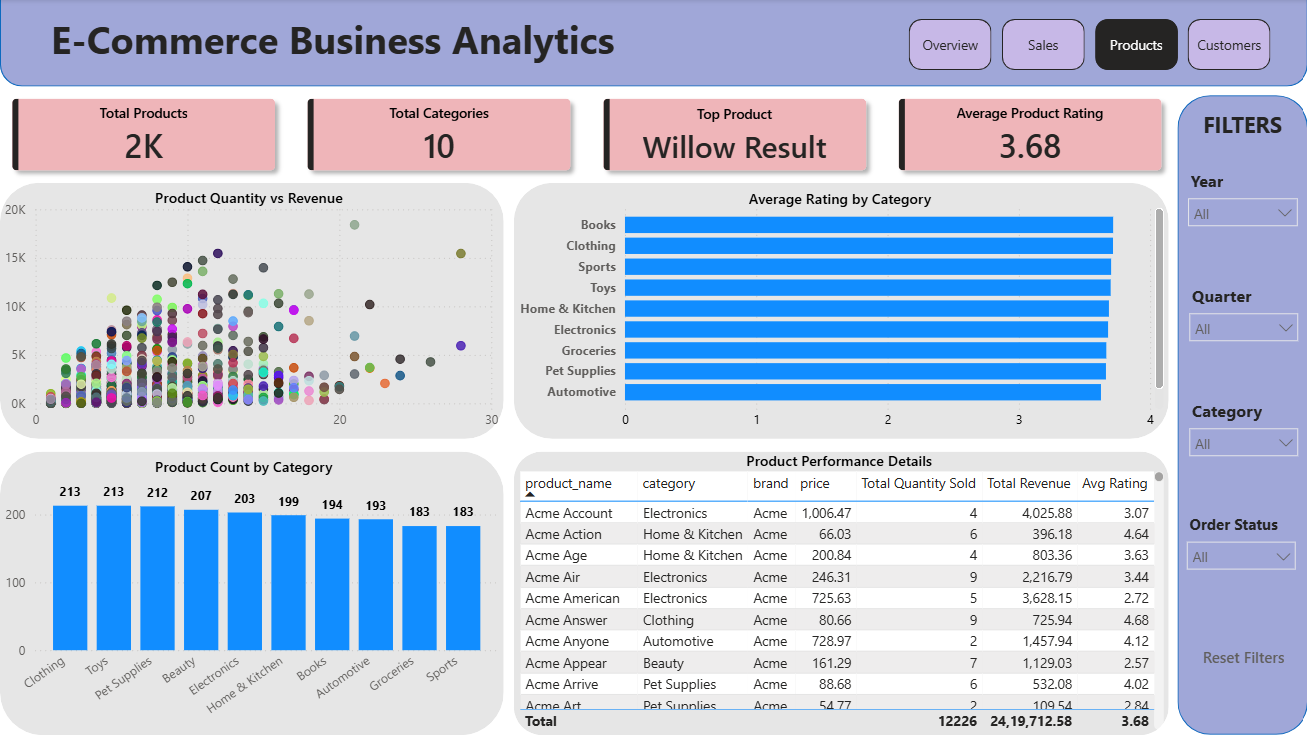

This screenshot's page, from the dashboard's own definition file:
{"tool":"powerbi","page":{"name":"Products","canvas":[1280,720],"ordinal":2},"visuals":[{"type":"cardVisual","fields":{"Data":["Measures_Table.Total Products","Measures_Table.Total Categories","Measures_Table.Top Product","Measures_Table.Average Product Rating"]},"box":[0,85.6,1151.9,94.2],"z":0},{"type":"shape","box":[0,0,1280.3,85.6],"z":1000},{"type":"textbox","box":[0,8.6,640.8,72.1],"z":3000},{"type":"pageNavigator","box":[889,19.6,357.1,50.1],"z":4000},{"type":"shape","box":[1151.4,94.3,128.6,625.7],"z":5000},{"type":"slicer","fields":{"Values":["Date.Year"]},"box":[1152.5,161.2,127.5,83.8],"z":6000},{"type":"slicer","fields":{"Values":["Date.Quarter"]},"box":[1152.9,274.3,127.1,82.9],"z":7000},{"type":"slicer","fields":{"Values":["products.category"]},"box":[1152.9,386.5,127.1,82.9],"z":8000},{"type":"slicer","fields":{"Values":["orders.order_status"]},"box":[1151.2,498.8,127.1,82.9],"z":9000},{"type":"textbox","box":[1152.5,102.5,127.5,45],"z":10000},{"type":"actionButton","title":"Reset Filters","box":[1166.2,623.8,100,40],"z":11000},{"type":"shape","box":[0,179.8,492.8,250.7],"z":12000},{"type":"scatterChart","fields":{"Series":["products.product_name"],"Y":["Measures_Table.Total Revenue"],"X":["Measures_Table.Total Quantity Sold"]},"box":[0,192,492.8,238.5],"z":13000},{"type":"shape","box":[502.6,179.8,640.8,250.7],"z":14000},{"type":"clusteredBarChart","fields":{"Category":["products.category"],"Y":["Measures_Table.Average Product Rating"]},"box":[502.6,192,640.8,238.5],"z":15000},{"type":"shape","box":[0,442.7,492.8,277.6],"z":16000},{"type":"clusteredColumnChart","fields":{"Category":["products.category"],"Y":["Count(products.product_id)"]},"box":[0,457.3,492.8,262.9],"z":17000},{"type":"shape","box":[502.6,442.7,640.8,277.6],"z":18000},{"type":"tableEx","fields":{"Values":["products.product_name","products.category","products.brand","products.price","Measures_Table.Total Quantity Sold","Measures_Table.Total Revenue","Measures_Table.Average Product Rating"]},"box":[502.6,457.3,640.8,262.9],"z":19500},{"type":"textbox","box":[146.7,179.8,201.8,33],"z":19501},{"type":"textbox","box":[146.7,442.7,199.3,33],"z":19502},{"type":"textbox","box":[725.1,436.6,194.4,33],"z":19503},{"type":"textbox","box":[727.6,181,190.8,33],"z":19504}]}

Visuals, with their boxes in screenshot pixels (x1, y1, x2, y2), scaled from the page's 1280x720 canvas onto the 1307x735 screenshot:
cardVisual - Measures_Table.Total Products x Measures_Table.Total Categories: 0,87,1176,184
shape: 0,0,1306,87
textbox: 0,9,654,82
pageNavigator: 908,20,1272,71
shape: 1176,96,1306,734
slicer - Date.Year: 1177,165,1306,250
slicer - Date.Quarter: 1177,280,1306,365
slicer - products.category: 1177,395,1306,479
slicer - orders.order_status: 1175,509,1305,594
textbox: 1177,105,1306,151
"Reset Filters" actionButton: 1191,637,1293,678
shape: 0,184,503,439
scatterChart - products.product_name x Measures_Table.Total Revenue: 0,196,503,439
shape: 513,184,1168,439
clusteredBarChart - products.category x Measures_Table.Average Product Rating: 513,196,1168,439
shape: 0,452,503,734
clusteredColumnChart - products.category x Count(products.product_id): 0,467,503,734
shape: 513,452,1168,734
tableEx - products.product_name x products.category: 513,467,1168,734
textbox: 150,184,356,217
textbox: 150,452,353,486
textbox: 740,446,939,479
textbox: 743,185,938,218
